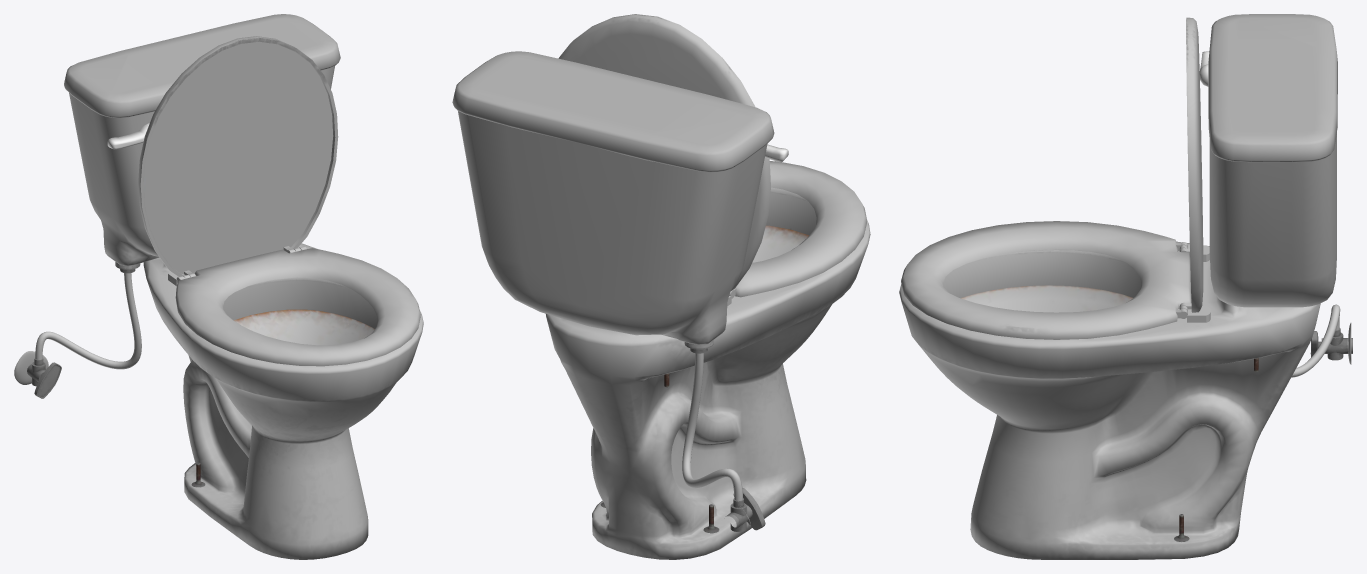
File: toilet.glb
The picture shows the model from 3 angles, left to right: view 1: azimuth 30°, elevation 25°; view 2: azimuth 150°, elevation 25°; view 3: azimuth 270°, elevation 25°; orthographic projection. The views are drawn at different scales.
Parts seen in each view (by area): view 1: Toilet_Toilet_0; view 2: Toilet_Toilet_0; view 3: Toilet_Toilet_0.
Boxes of the visible parts, left/top/right/bottom form: Toilet_Toilet_0: left=14, top=14, right=423, bottom=559; Toilet_Toilet_0: left=452, top=14, right=870, bottom=559; Toilet_Toilet_0: left=899, top=14, right=1352, bottom=559.
Size of the model in its own units: 0.4783 by 0.7435 by 0.607.
1 material, 1 textured.
